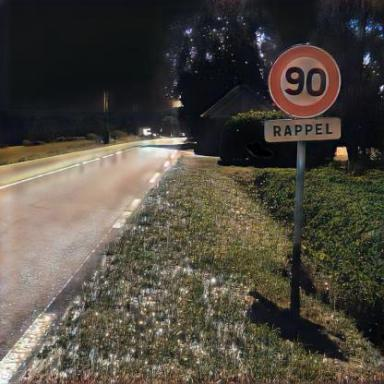Speed_limit_90: (271, 48, 340, 117)
